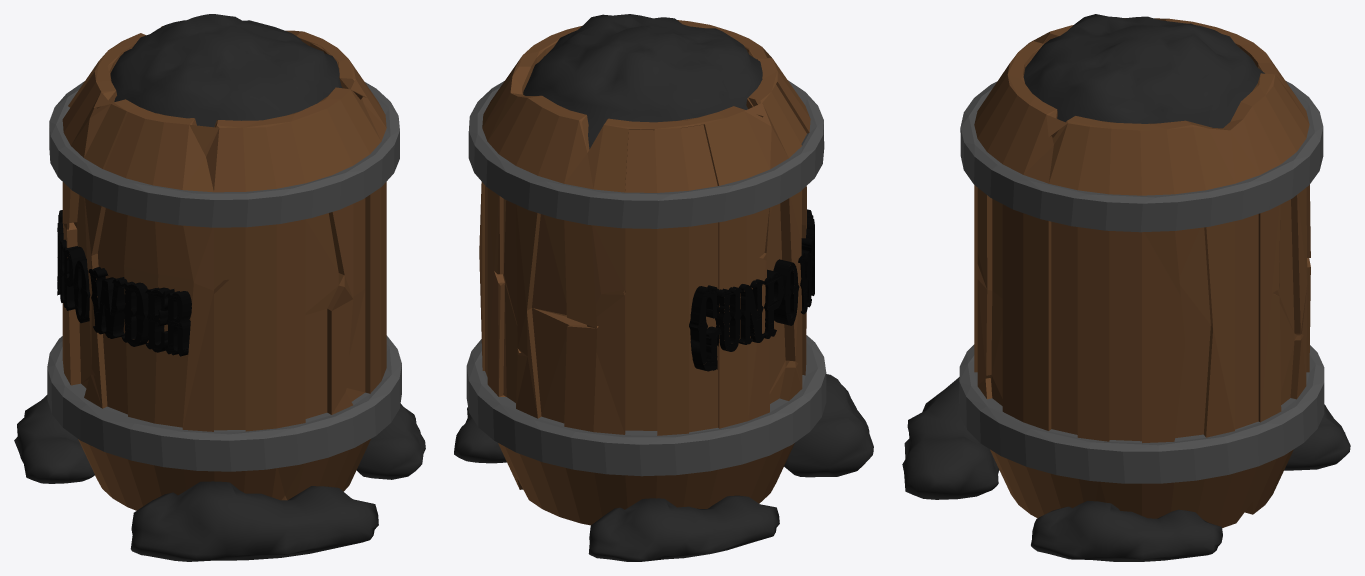
Rendered from gunpowder.fbx.
The picture shows the model from 3 angles, left to right: view 1: azimuth 30°, elevation 25°; view 2: azimuth 150°, elevation 25°; view 3: azimuth 270°, elevation 25°; orthographic projection. The views are drawn at different scales.
Parts seen in each view (by area): view 1: Text; view 2: Text; view 3: Text.
Part boxes in pixels (x1,y1,x2,y2): Text: [14, 14, 425, 561]; Text: [454, 14, 873, 561]; Text: [902, 14, 1350, 561].
Size of the model in its own units: 377 by 472 by 419.
